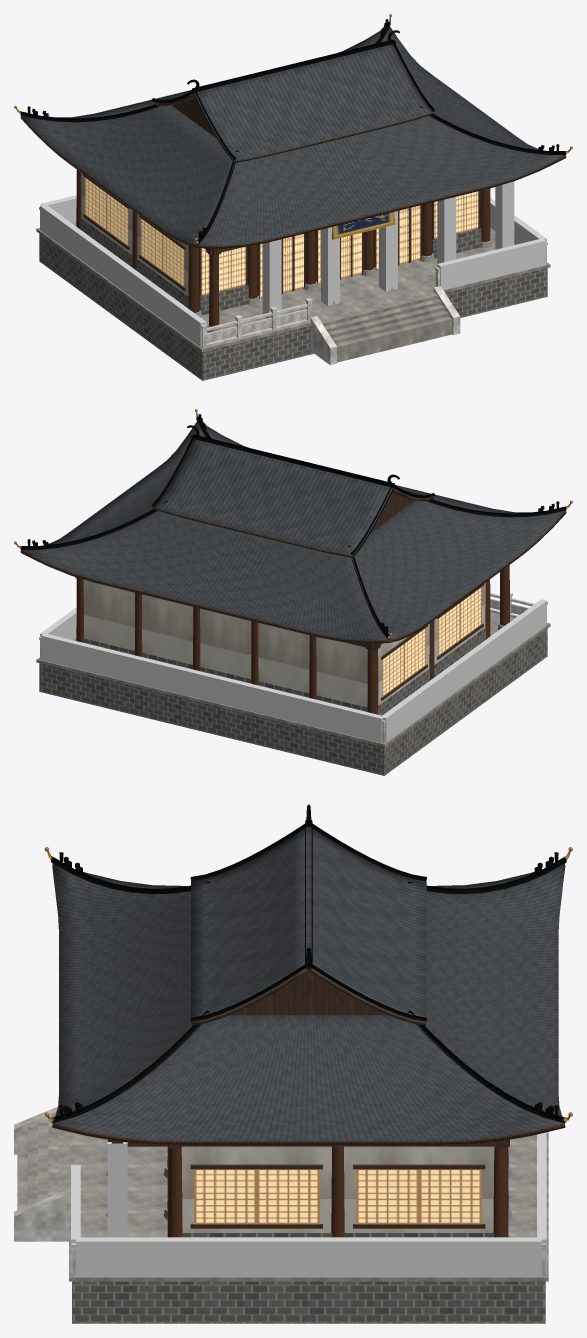
Rendered from manor_hall.glb.
3 views of the same model, one above another, from view 1: azimuth 30°, elevation 25°; view 2: azimuth 150°, elevation 25°; view 3: azimuth 270°, elevation 25° (orthographic). The views are drawn at different scales.
Parts seen in each view (by area): view 1: ManorLowerRoof, ManorGable, ManorPodiumBase, ManorLattice, ManorPodiumCap, ManorStairsfront, ManorRail-convcolonly.004, ManorColumns, ManorRail-convcolonly.001, ManorDado, ManorFrames, ManorBalustrade (+14 smaller); view 2: ManorLowerRoof, ManorGable, ManorWalls, ManorPodiumBase, ManorRail-convcolonly.003, ManorRail-convcolonly.004, ManorColumns, ManorLattice, ManorDado, ManorPodiumCap, ManorGableRidge, ManorLowerRoofRidges (+4 smaller); view 3: ManorLowerRoof, ManorGable, ManorPodiumBase, ManorRail-convcolonly.002, ManorLattice, ManorPodiumCap, ManorWalls, ManorColumns, ManorLowerRoofRidges, ManorStairsfront, ManorGableFace, ManorGableRidge (+8 smaller).
Part boxes in pixels (x1,y1,x2,y2): ManorLowerRoof: (20,26,566,248); ManorGable: (153,44,433,162); ManorPodiumBase: (39,234,547,380); ManorLattice: (85,177,478,298); ManorPodiumCap: (36,223,550,352); ManorStairsfront: (321,293,452,362); ManorRail-convcolonly.004: (40,205,206,347); ManorColumns: (76,169,490,326); ManorRail-convcolonly.001: (437,238,545,289); ManorDado: (80,218,481,315); ManorFrames: (83,174,480,298); ManorBalustrade: (39,207,547,347); ManorLowerRoof: (20,421,566,643); ManorGable: (153,439,433,557); ManorWalls: (83,579,485,707); ManorPodiumBase: (39,629,547,775); ManorRail-convcolonly.003: (41,634,384,742); ManorRail-convcolonly.004: (382,599,546,742); ManorColumns: (76,565,509,714); ManorLattice: (382,587,481,696); ManorDado: (83,627,485,715); ManorPodiumCap: (36,612,550,747); ManorGableRidge: (152,425,434,555); ManorLowerRoofRidges: (20,417,566,639); ManorLowerRoof: (52,863,565,1145); ManorGable: (191,826,426,1025); ManorPodiumBase: (72,1281,545,1323); ManorRail-convcolonly.002: (76,1237,541,1276); ManorLattice: (194,1169,481,1224); ManorPodiumCap: (69,1132,548,1281); ManorWalls: (181,1146,494,1232); ManorColumns: (167,1145,508,1237); ManorLowerRoofRidges: (51,857,566,1122); ManorStairsfront: (17,1119,69,1210); ManorGableFace: (229,859,388,1015); ManorGableRidge: (190,804,426,1021).
Size of what is drawn, in the model's own units: 19.48 by 11.03 by 17.23.
12 materials, 12 textured.
